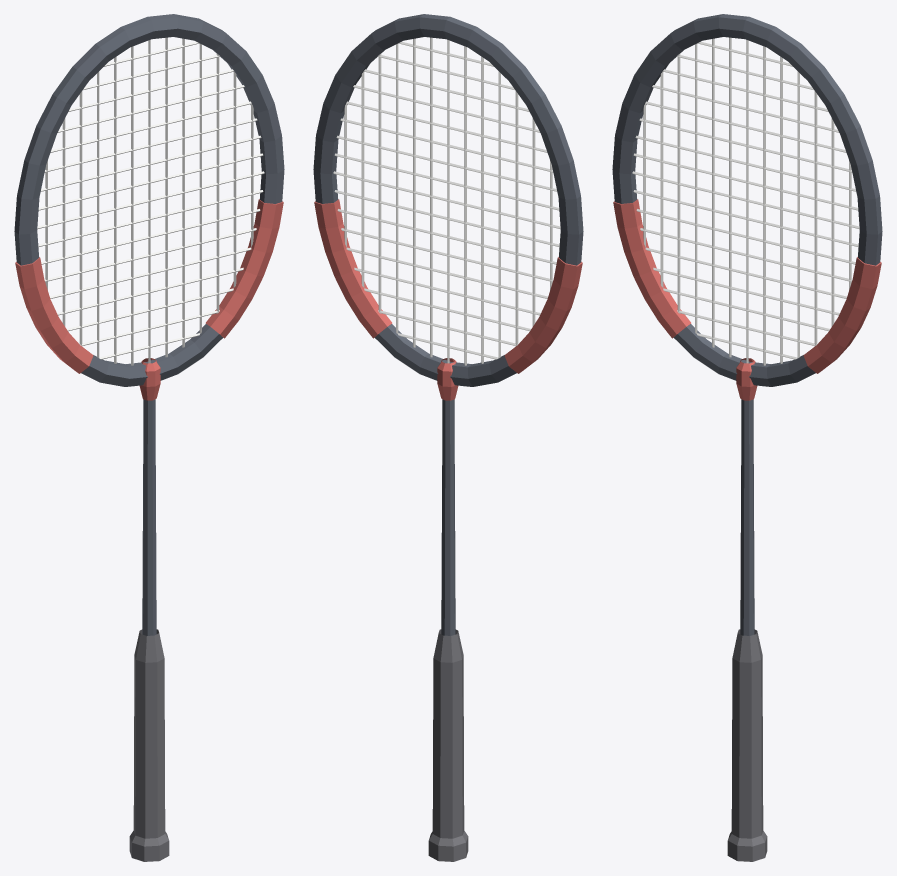
Rendered from racket.glb.
The picture shows the model from 3 angles, left to right: view 1: azimuth 30°, elevation 25°; view 2: azimuth 150°, elevation 25°; view 3: azimuth 330°, elevation 25°; orthographic projection.
Visible parts, largest first — view 1: racket; view 2: racket; view 3: racket.
Boxes of the visible parts, x1,y1,x2,y2 form: racket: [14, 14, 284, 861]; racket: [313, 14, 583, 861]; racket: [612, 14, 882, 861].
Size of the model in its own units: 0.466 by 1.4 by 0.062.
